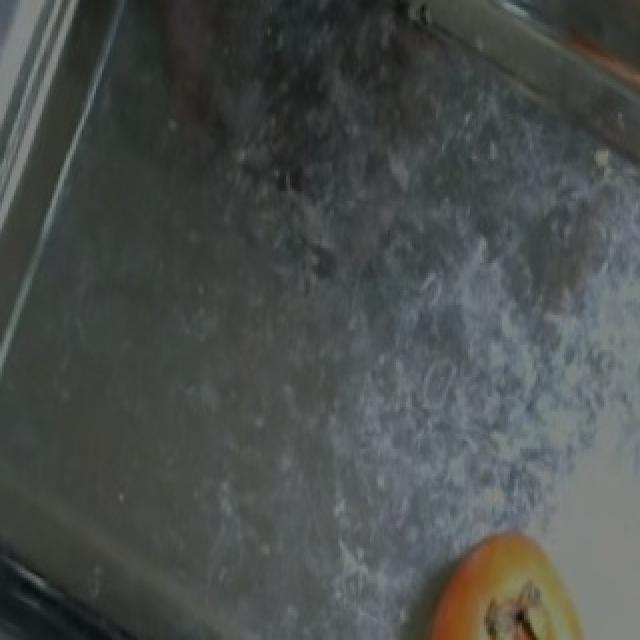Fruit: (402, 511, 604, 640)
